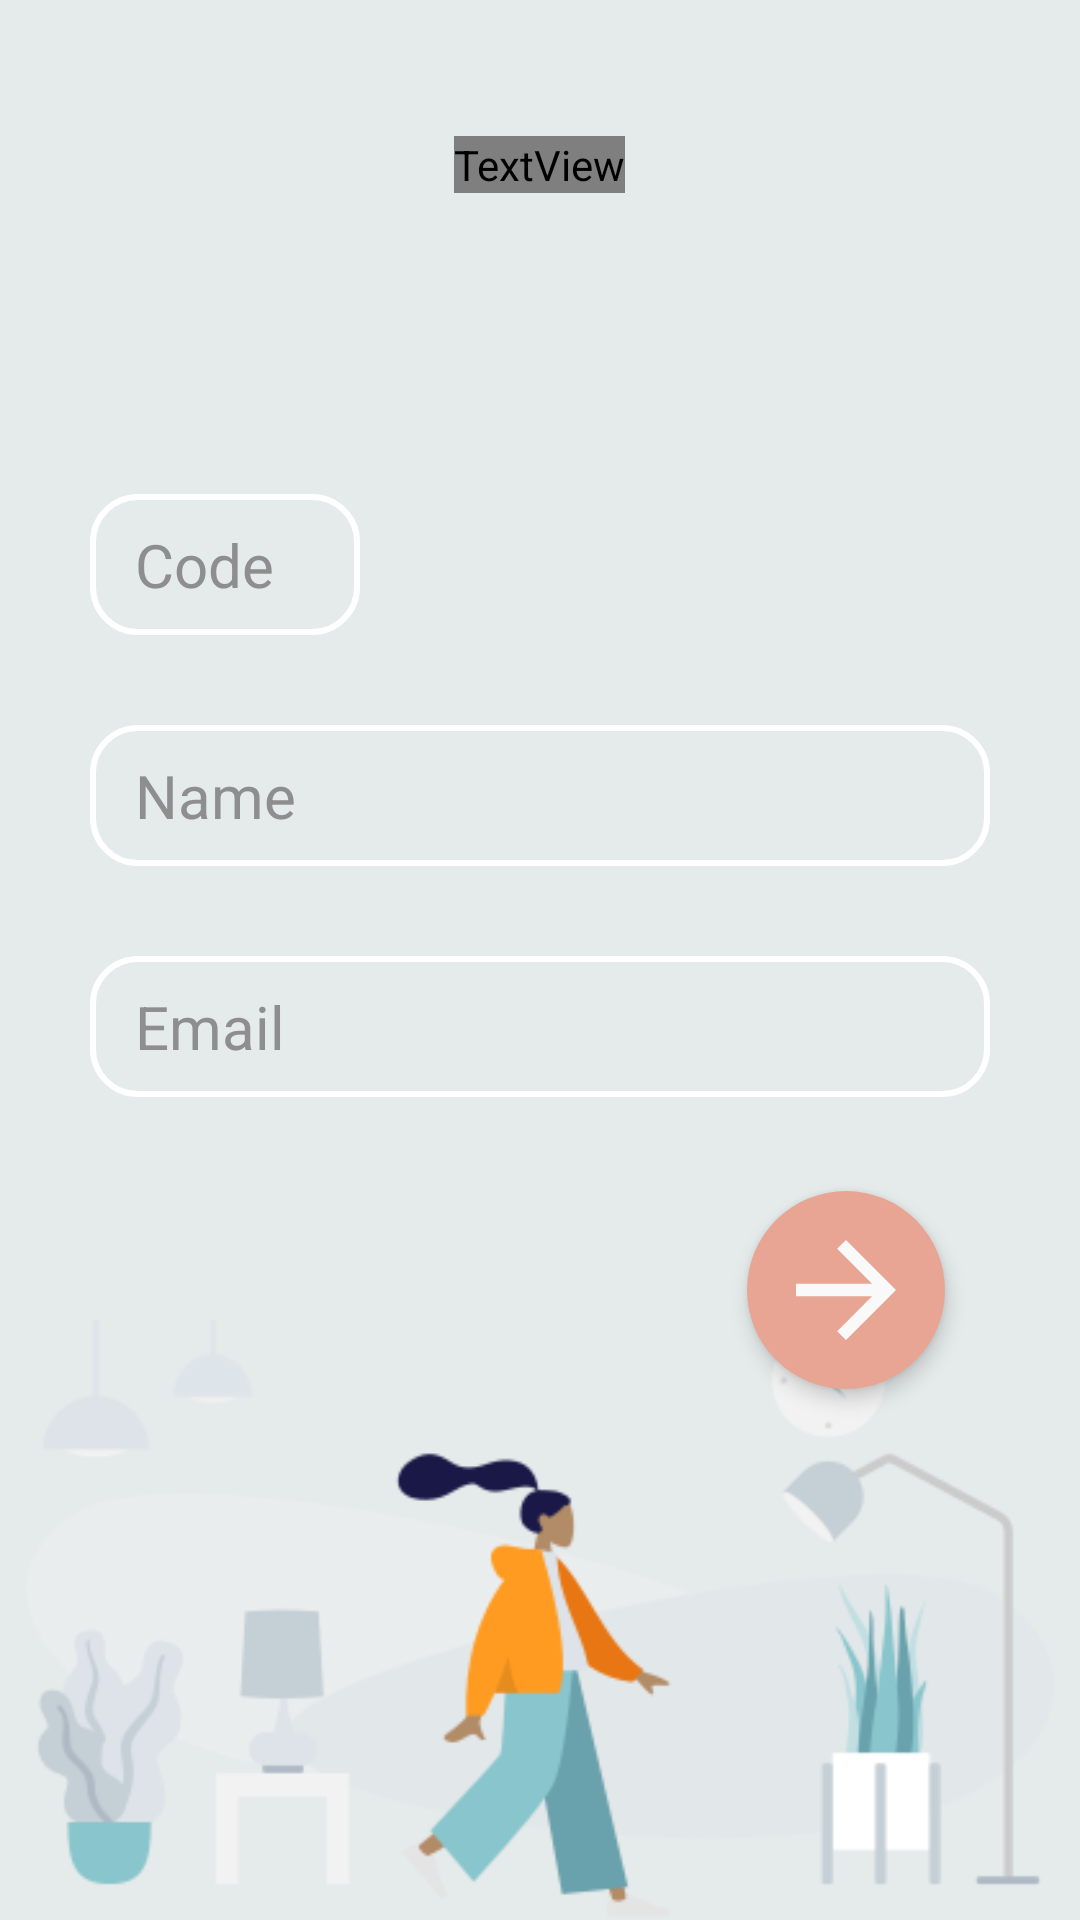

Where icons sit on this 1080px×1920px app screen, as {"x1": x1, "y1": y1, "x2": x2, "y2": y2}:
arrow: {"x1": 747, "y1": 1191, "x2": 945, "y2": 1389}
